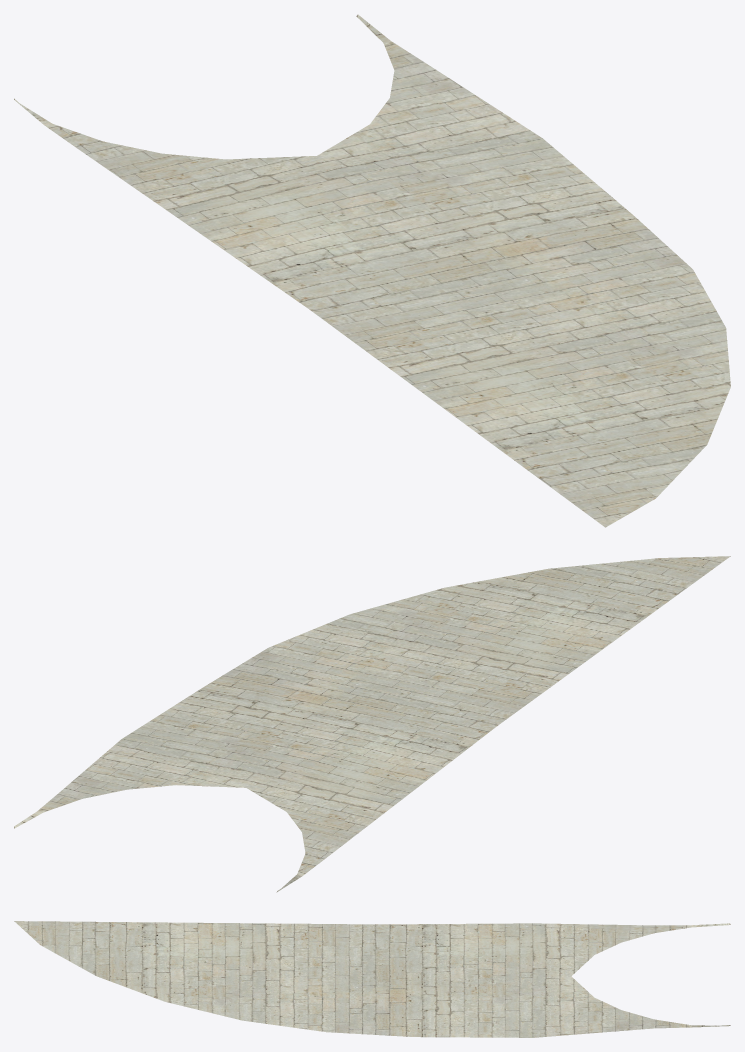
File: Cath_wall_big2.FBX
3 renders of one model, top to bottom at view 1: azimuth 30°, elevation 25°; view 2: azimuth 150°, elevation 25°; view 3: azimuth 270°, elevation 25°, orthographic. The views are drawn at different scales.
Visible parts, largest first — view 1: Cath_wall_big2; view 2: Cath_wall_big2; view 3: Cath_wall_big2.
Boxes of the visible parts, bbox=[...] form: Cath_wall_big2: bbox=[14, 14, 730, 527]; Cath_wall_big2: bbox=[14, 556, 730, 892]; Cath_wall_big2: bbox=[14, 921, 730, 1037].
Size of the model in its own units: 351 by 15.37 by 979.
